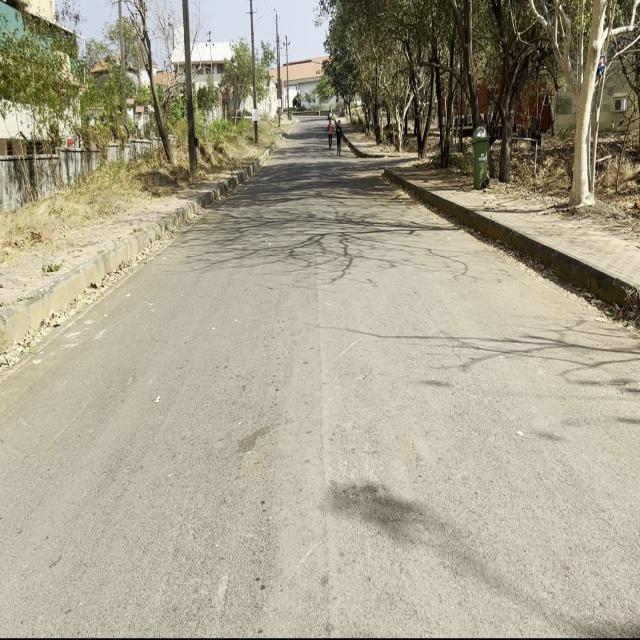Road: (6, 122, 635, 631)
